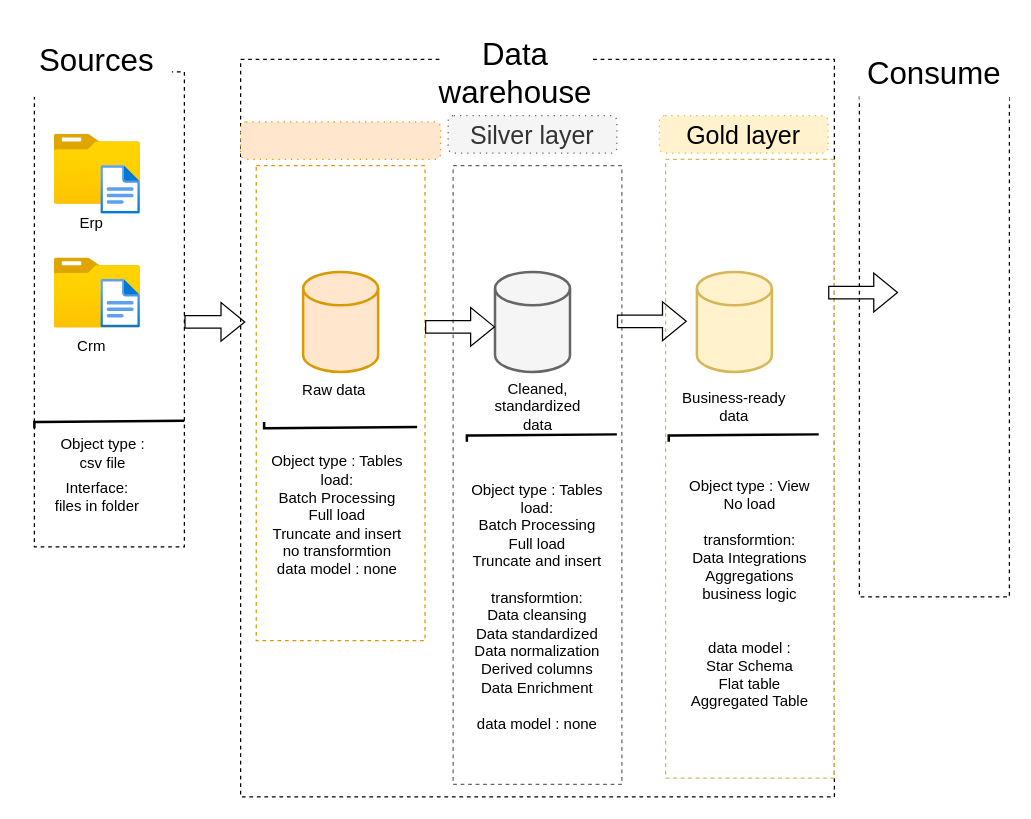
The diagram is 1031 pixels wide and 819 high, and some of its shapes have lost their labels. The shapes that lost their labels are listed below. From the top down, each one's centre as x and y in pixels, then its label:
the point at 340,140: Bronze layer
the point at 933,346: Applications & Reports
